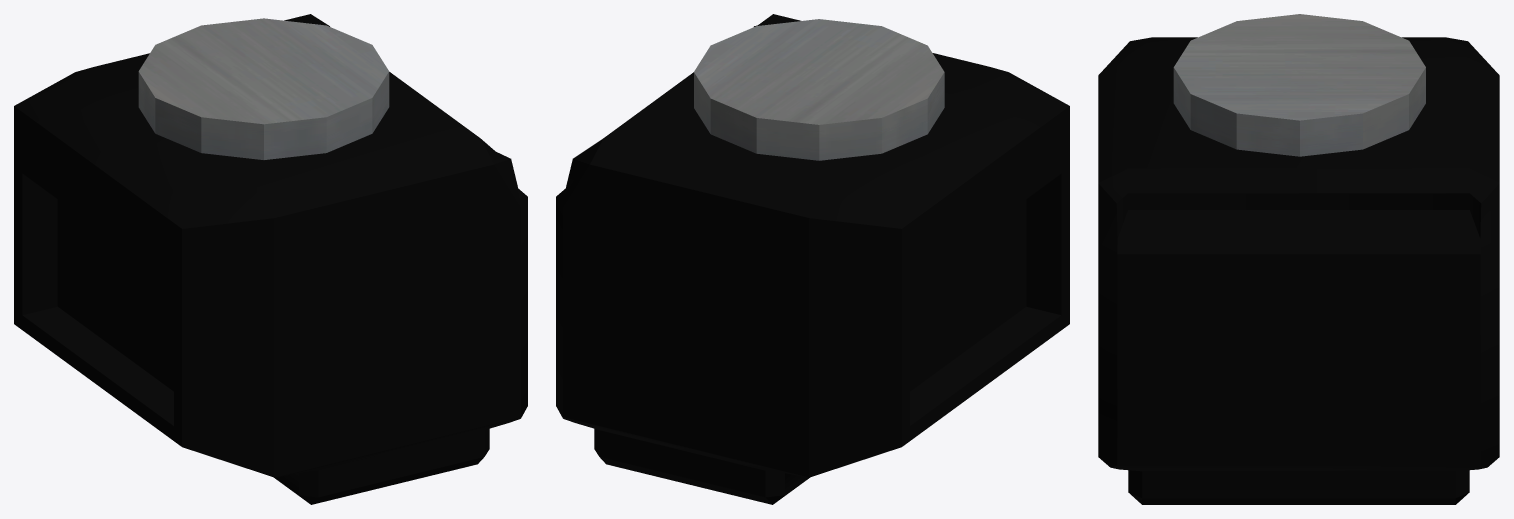
The model's file is K-WheelMotor.fbx.
3 renders of one model, left to right at view 1: azimuth 30°, elevation 25°; view 2: azimuth 150°, elevation 25°; view 3: azimuth 270°, elevation 25°, orthographic.
Parts seen in each view (by area): view 1: WheelMotor_A, WheelSteeringBearing; view 2: WheelMotor_A, WheelSteeringBearing; view 3: WheelMotor_A, WheelSteeringBearing.
Part boxes in pixels (left/top/right/bottom): WheelMotor_A: left=14, top=14, right=527, bottom=504; WheelSteeringBearing: left=138, top=18, right=389, bottom=159; WheelMotor_A: left=556, top=14, right=1069, bottom=504; WheelSteeringBearing: left=694, top=19, right=944, bottom=160; WheelMotor_A: left=1098, top=37, right=1499, bottom=504; WheelSteeringBearing: left=1173, top=14, right=1425, bottom=156.
Bounding box in the file's own units: 11.89 × 12.33 × 12.09.
